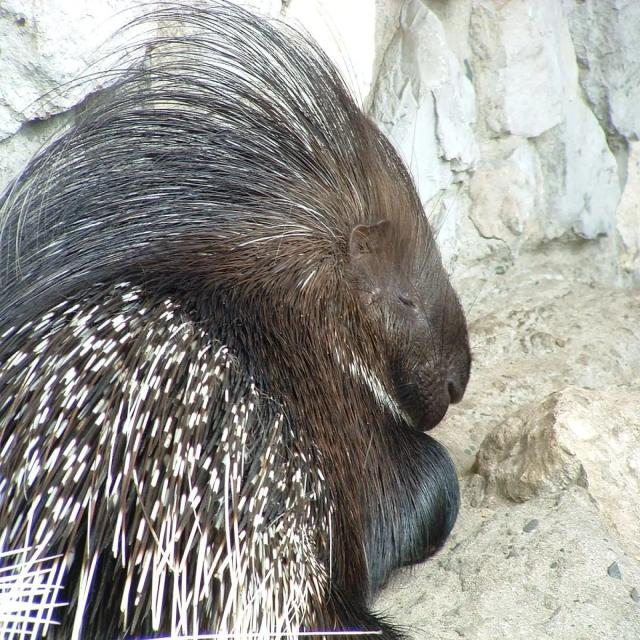Porcupine: (6, 32, 470, 640)
